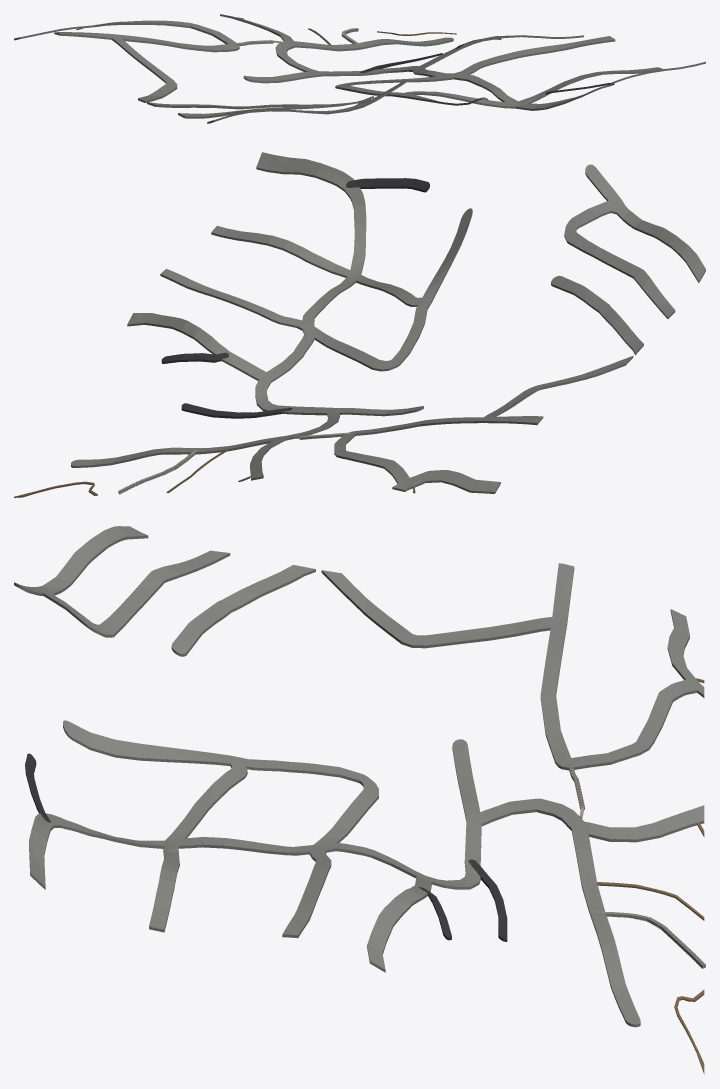
The model's file is 17-109440-59479.6eeb0437.glb.
3 renders of one model, top to bottom at view 1: azimuth 30°, elevation 25°; view 2: azimuth 150°, elevation 25°; view 3: azimuth 270°, elevation 25°, orthographic. The views are drawn at different scales.
Size of the model in its own units: 293 by 128 by 277.
